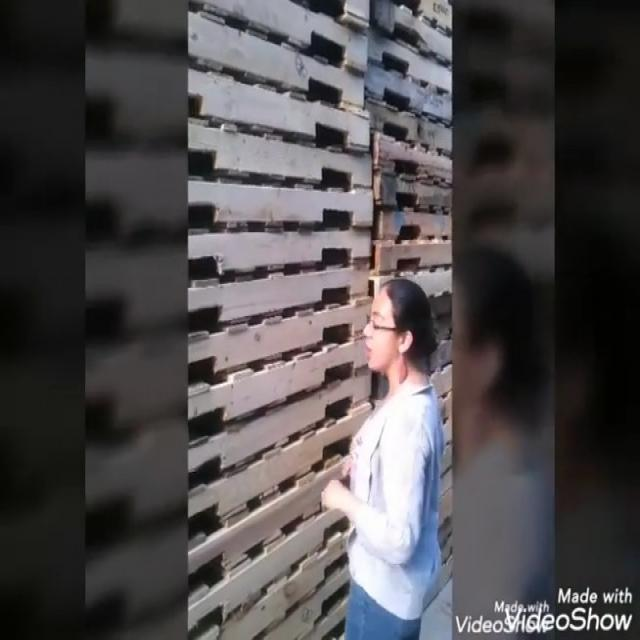Palette: (184, 0, 368, 640), (365, 0, 453, 264)
